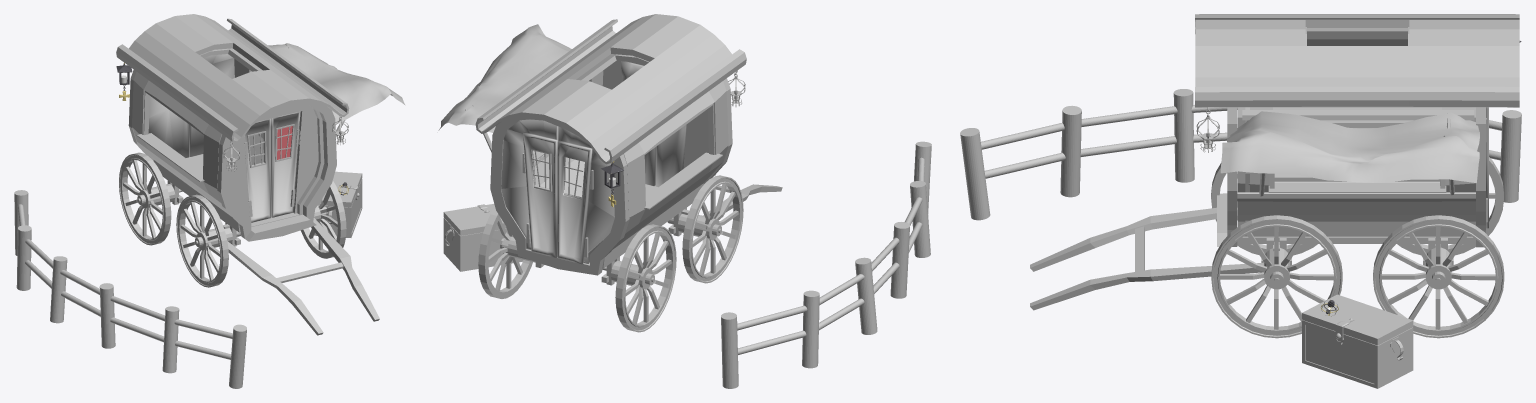
The model's file is Caravan.fbx.
The picture shows the model from 3 angles, left to right: view 1: azimuth 30°, elevation 25°; view 2: azimuth 150°, elevation 25°; view 3: azimuth 270°, elevation 25°; orthographic projection. The views are drawn at different scales.
Visible parts, largest first — view 1: Caravan Base.003, Caravan Base, Caravan Base.002, Plane.003, Plane.010, Cube.042, Cube.038, Plane.019, Circle, Circle.002, Cube.013, Cube.012 (+22 smaller); view 2: Caravan Base.003, Caravan Base, Plane.022, Plane.019, Plane.010, Caravan Base.001, Circle.002, Circle, Plane.003, Cube.012, Cube.013, Cube.040 (+18 smaller); view 3: Caravan Base.003, Plane.010, Caravan Base, Cube.040, Cube.038, Circle.004, Circle.006, Cube.014, Cube.041, Cube.015, Cylinder.024, Cylinder.025 (+17 smaller).
Part boxes in pixels (box(x1,y1,x2,y2)): Caravan Base.003: box(116, 14, 349, 142); Caravan Base: box(132, 48, 324, 232); Caravan Base.002: box(217, 104, 336, 241); Plane.003: box(244, 111, 300, 222); Plane.010: box(268, 43, 405, 123); Cube.042: box(230, 104, 318, 218); Cube.038: box(218, 218, 379, 335); Plane.019: box(148, 54, 234, 157); Circle: box(176, 194, 228, 287); Circle.002: box(119, 152, 171, 245); Cube.013: box(123, 160, 162, 238); Cube.012: box(180, 202, 220, 280); Caravan Base.003: box(475, 14, 746, 164); Caravan Base: box(534, 54, 728, 268); Plane.022: box(523, 132, 592, 264); Plane.019: box(501, 119, 614, 263); Plane.010: box(438, 24, 571, 132); Caravan Base.001: box(490, 119, 629, 275); Circle.002: box(615, 224, 676, 332); Circle: box(682, 175, 743, 283); Plane.003: box(621, 61, 686, 187); Cube.012: box(692, 183, 738, 275); Cube.013: box(625, 232, 671, 324); Cube.040: box(443, 218, 522, 271); Caravan Base.003: box(1195, 14, 1519, 107); Plane.010: box(1220, 111, 1479, 182); Caravan Base: box(1237, 27, 1475, 236); Cube.040: box(1302, 319, 1413, 388); Cube.038: box(1030, 207, 1264, 310); Circle.004: box(1373, 215, 1504, 338); Circle.006: box(1211, 215, 1342, 338); Cube.014: box(1381, 226, 1495, 329); Cube.041: box(1302, 294, 1413, 345); Cube.015: box(1219, 226, 1334, 329); Cylinder.024: box(1237, 192, 1475, 201); Cylinder.025: box(1242, 110, 1474, 120).
Size of the model in its own units: 1176 by 651 by 1194.
